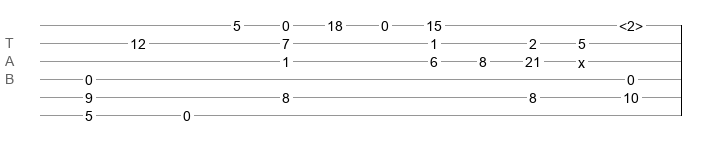0: (85, 72, 93, 82), (183, 108, 191, 118), (282, 18, 290, 28), (381, 18, 389, 28), (627, 72, 635, 82)
1: (282, 54, 290, 64), (430, 36, 438, 46)
10: (623, 90, 639, 100)
12: (130, 36, 146, 46)
15: (426, 18, 442, 28)
18: (327, 18, 343, 28)
2: (529, 36, 537, 46)
21: (525, 54, 541, 64)
5: (85, 108, 93, 118), (233, 18, 241, 28), (578, 36, 586, 46)
6: (430, 54, 438, 64)
7: (282, 36, 290, 46)
8: (282, 90, 290, 100), (479, 54, 487, 64), (529, 90, 537, 100)
9: (85, 90, 93, 100)
harmonic: (619, 18, 643, 28)
x: (578, 55, 585, 63)
